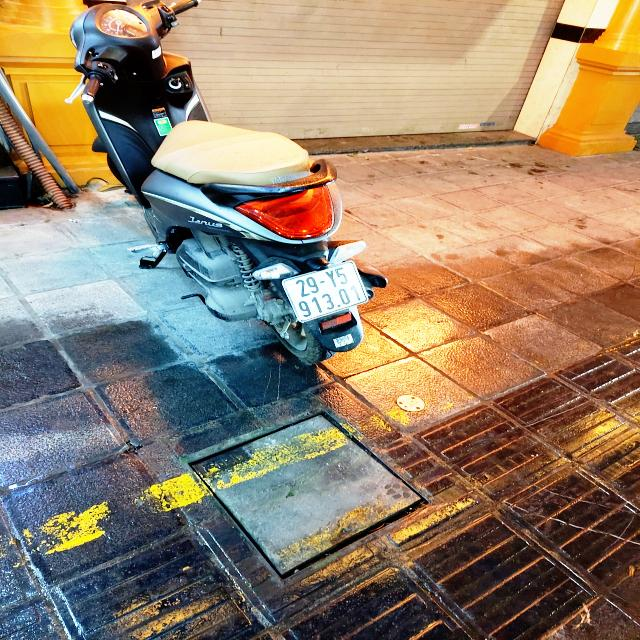license_plate: (282, 261, 370, 324)
